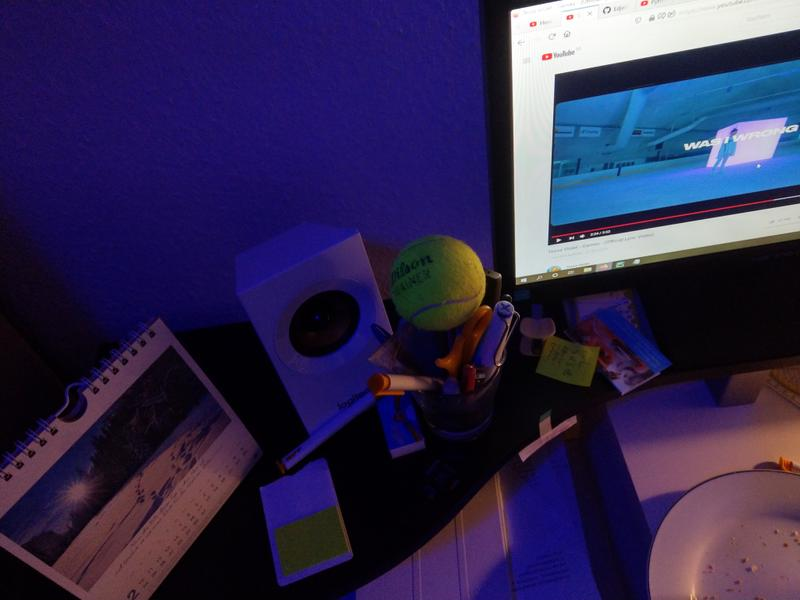Tennisball: (383, 232, 489, 339)
